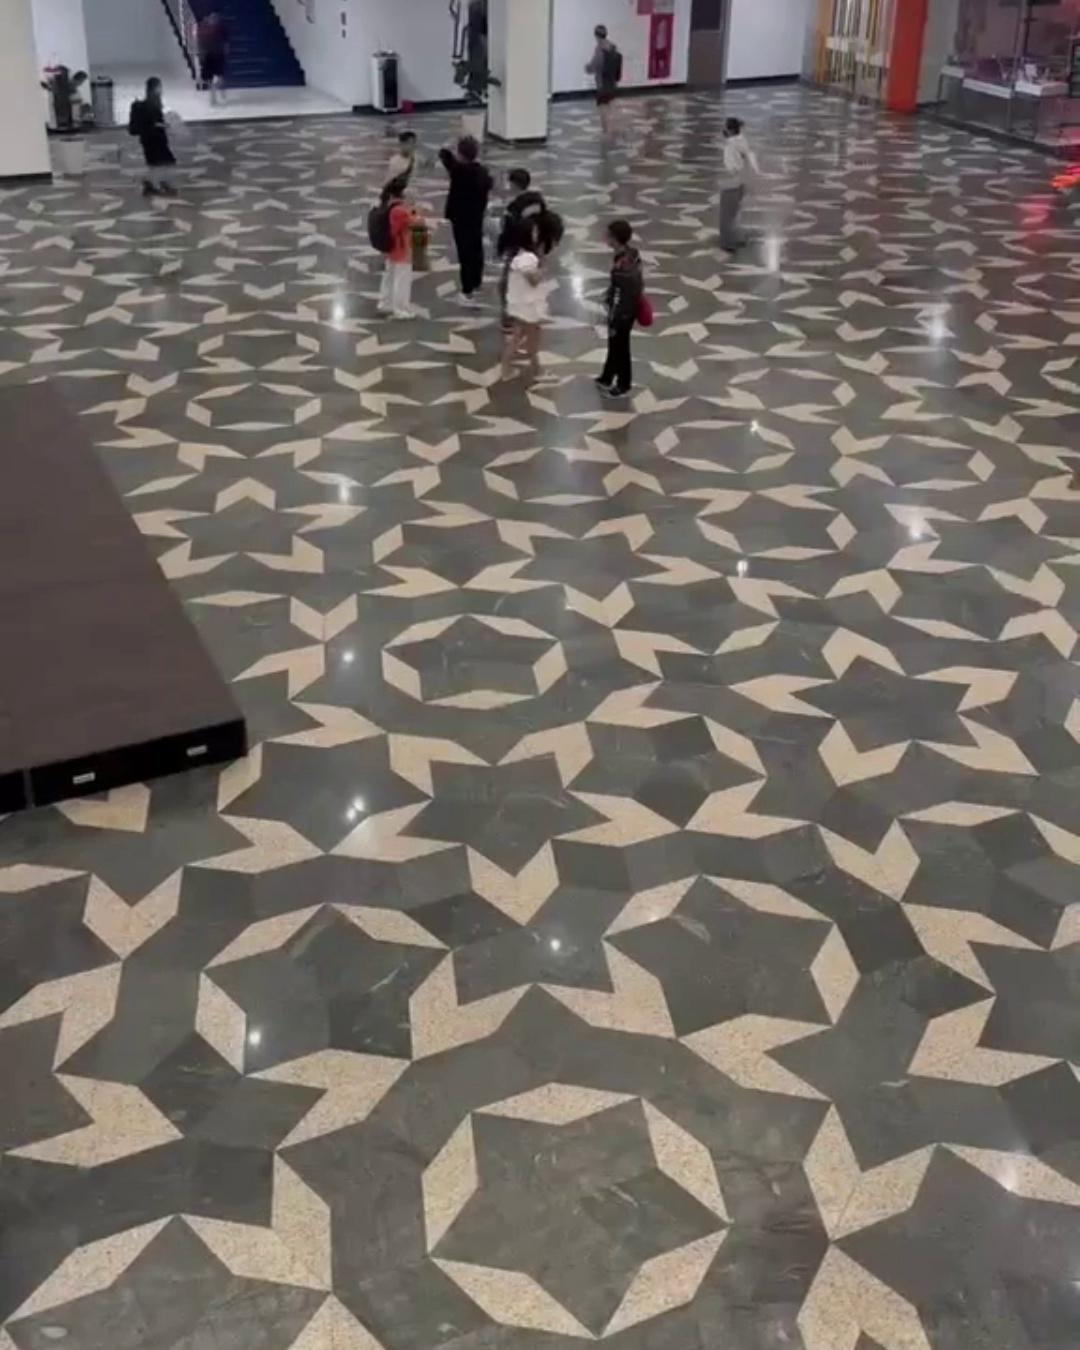your_class: (593, 217, 655, 403), (436, 133, 496, 314), (498, 220, 561, 391), (495, 170, 563, 317), (366, 175, 423, 325), (379, 132, 431, 274), (709, 115, 757, 256), (128, 75, 179, 199), (582, 22, 627, 142), (192, 11, 233, 110)
